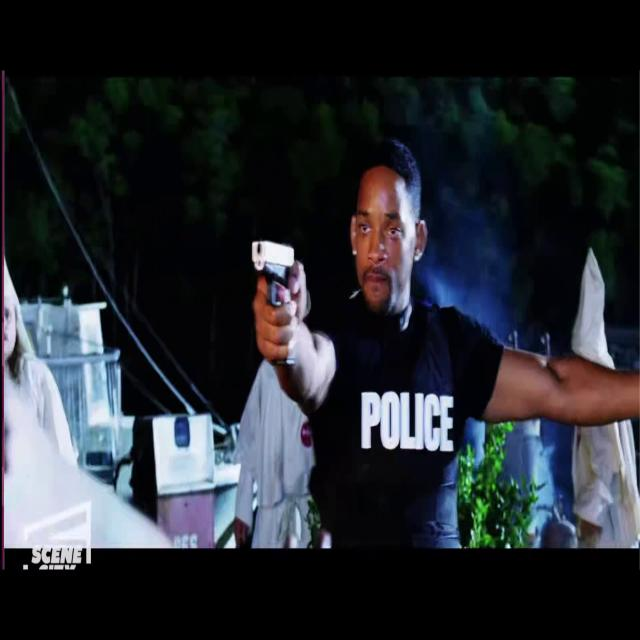weapons: (238, 214, 314, 366)
